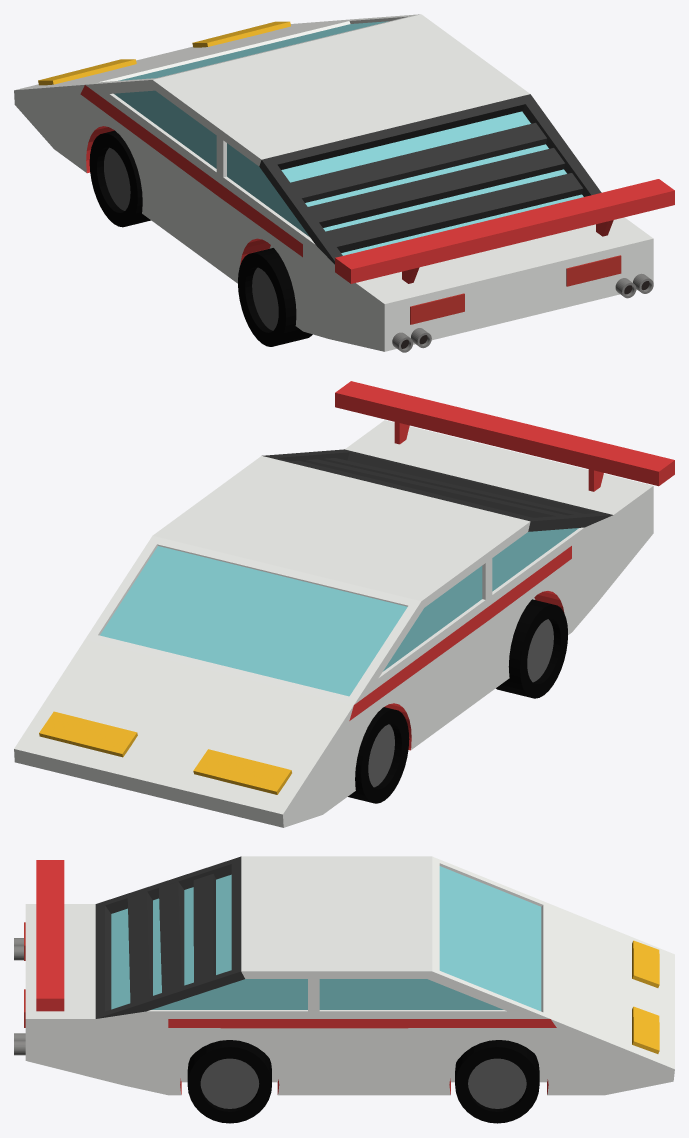
Rendered from PlayerCar.glb.
The picture shows the model from 3 angles, top to bottom: view 1: azimuth 30°, elevation 25°; view 2: azimuth 150°, elevation 25°; view 3: azimuth 270°, elevation 25°; orthographic projection. The views are drawn at different scales.
Parts seen in each view (by area): view 1: Chassis, Spoiler, Wheel.001, Wheel, Rear Light.001, Rear Light, Front Light, Front Light.001; view 2: Chassis, Spoiler, Wheel.001, Wheel, Front Light, Front Light.001; view 3: Chassis, Wheel.003, Wheel.002, Spoiler, Front Light, Front Light.001.
Part boxes in pixels (x1,y1,x2,y2): Chassis: (14, 14, 653, 351); Spoiler: (335, 179, 674, 283); Wheel.001: (238, 248, 312, 346); Wheel: (89, 130, 150, 227); Rear Light.001: (566, 255, 621, 286); Rear Light: (410, 293, 464, 324); Front Light: (192, 21, 290, 47); Front Light.001: (38, 59, 136, 85); Chassis: (14, 420, 653, 827); Spoiler: (335, 381, 674, 491); Wheel.001: (496, 599, 567, 698); Wheel: (348, 707, 409, 803); Front Light: (39, 711, 137, 757); Front Light.001: (193, 749, 291, 794); Chassis: (25, 856, 674, 1095); Wheel.003: (187, 1040, 271, 1123); Wheel.002: (455, 1040, 539, 1123); Spoiler: (36, 860, 64, 1011); Front Light: (632, 1006, 659, 1053); Front Light.001: (632, 940, 659, 987).
Size of the model in its own units: 4.67 by 2.44 by 9.42.
